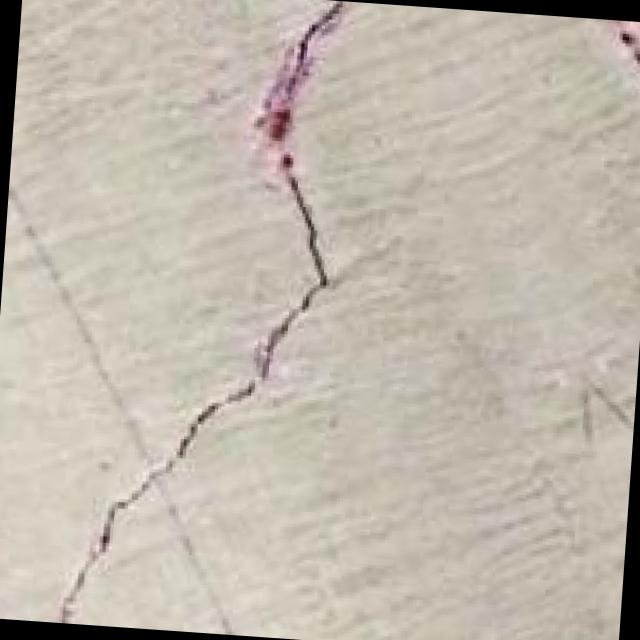crack: (55, 0, 370, 638)
